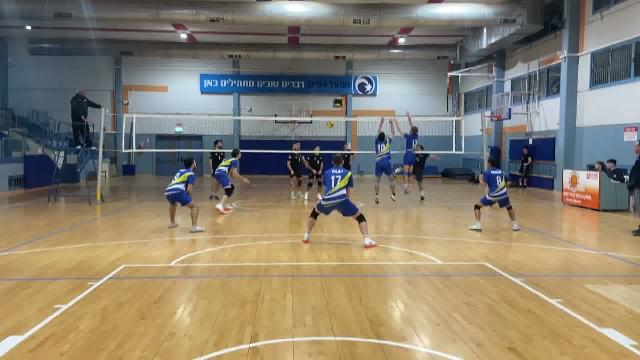ball: (325, 115, 334, 129)
